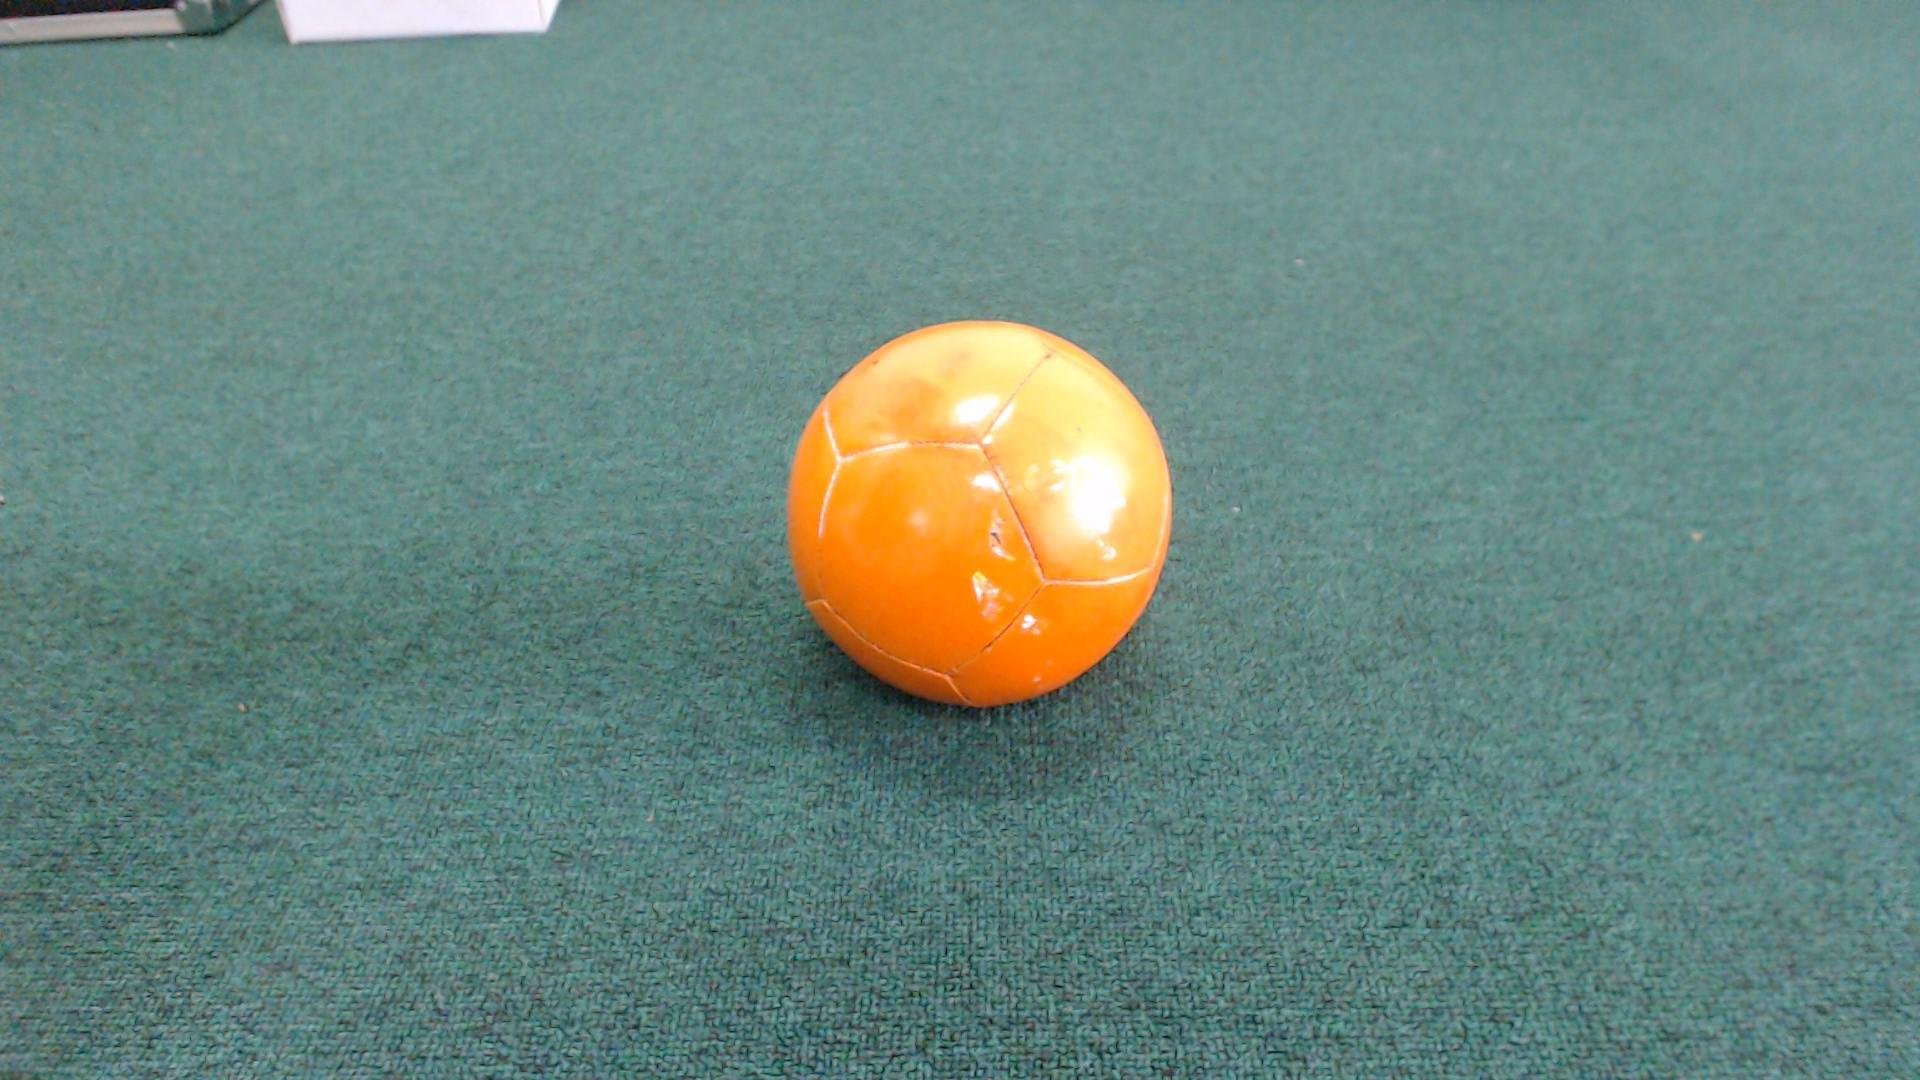bola: (733, 311, 1216, 727)
